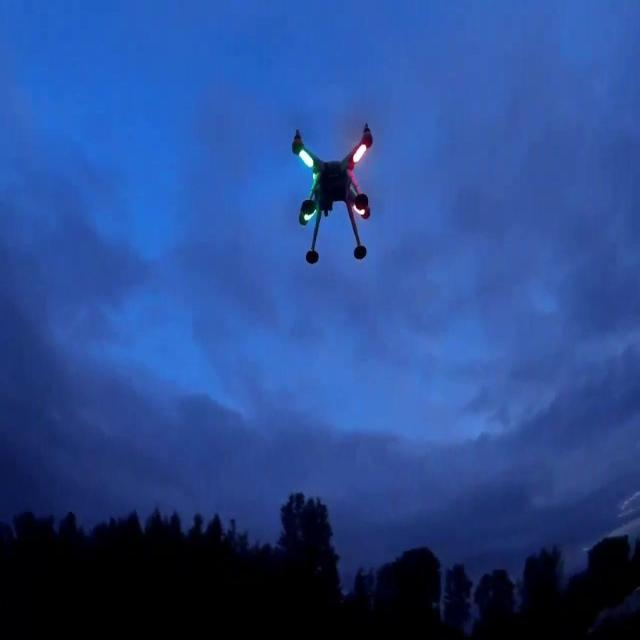drone: (292, 120, 376, 266)
